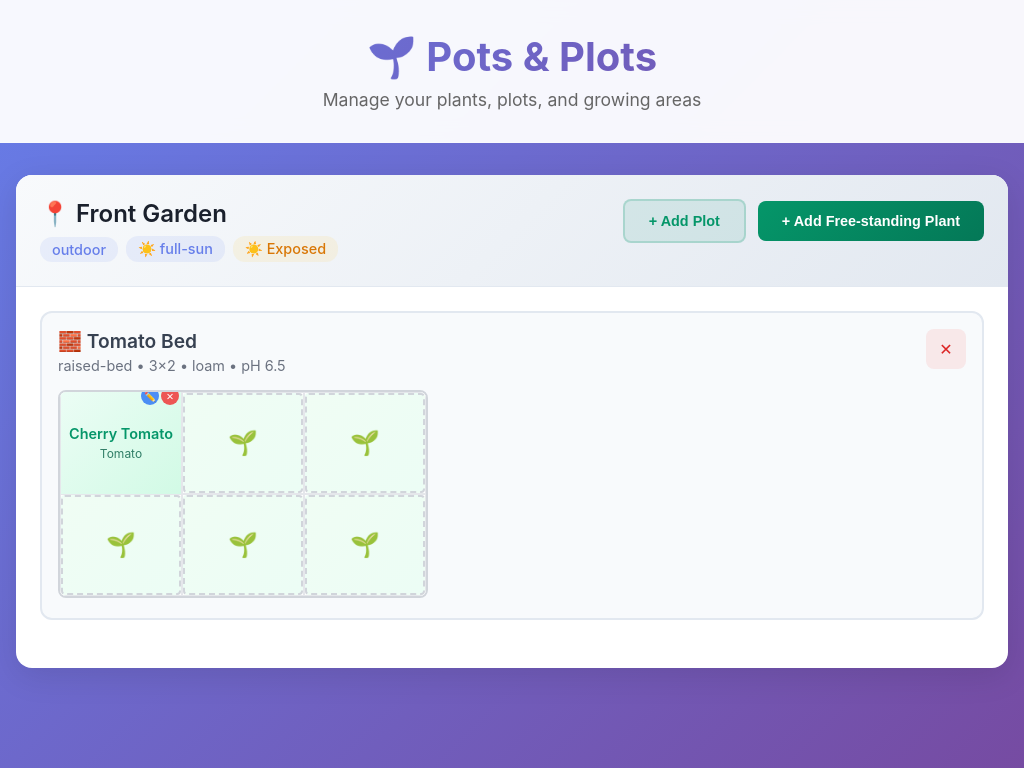
Test case: PlantDashboard › opens add plot dialog when clicking add plot button
Expected: the heading "📍 Front Garden" is shown, [40, 199, 227, 228]
Note: Click add plot button
Click the button "+ Add Plot".
click(684, 221)  # box [623, 199, 746, 243]
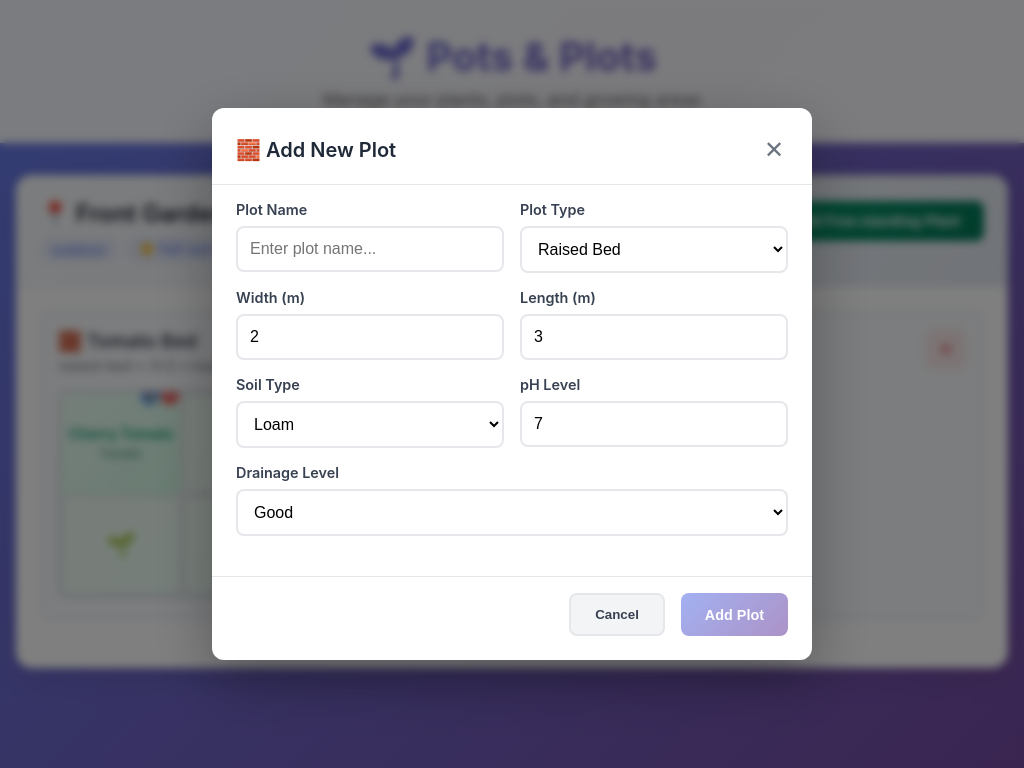
Expected: the heading "🧱 Add New Plot" is shown, [236, 138, 396, 162]
